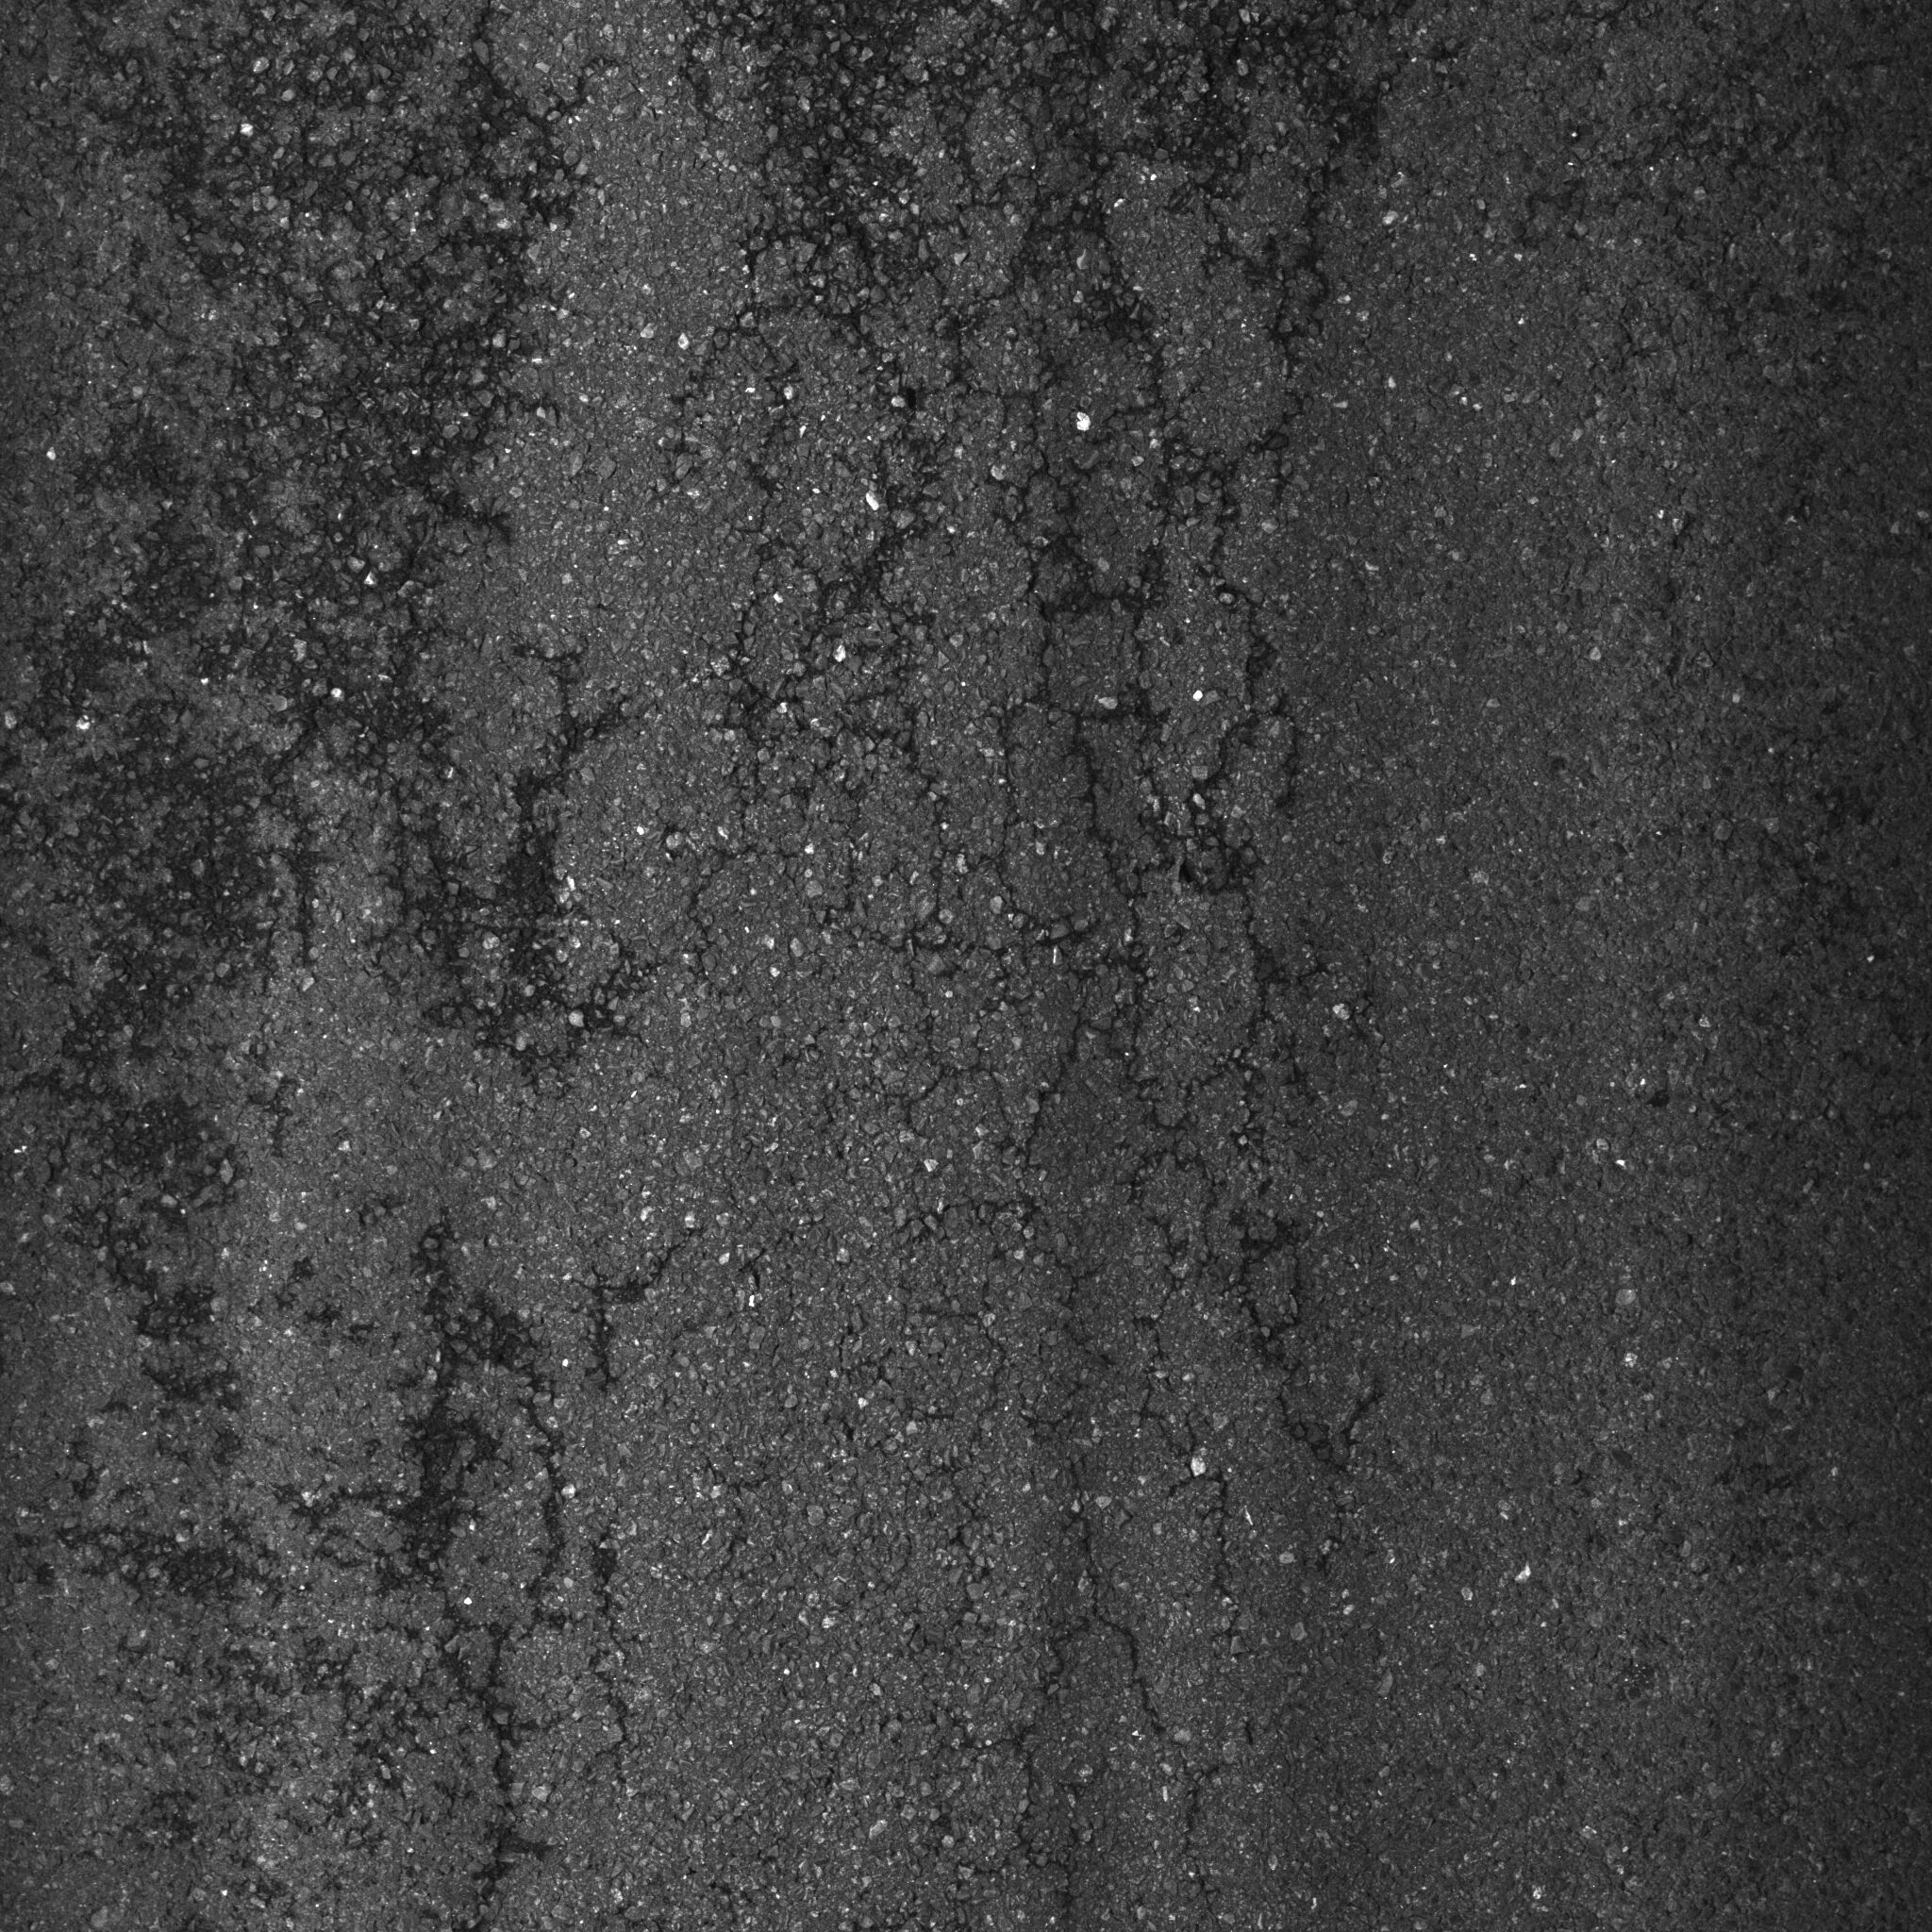alligator: (44, 7, 1424, 1897)
